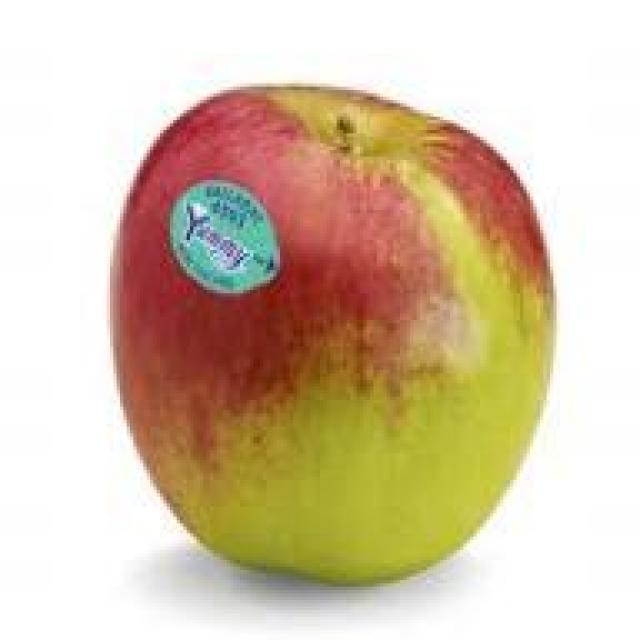apple: (117, 97, 553, 580)
